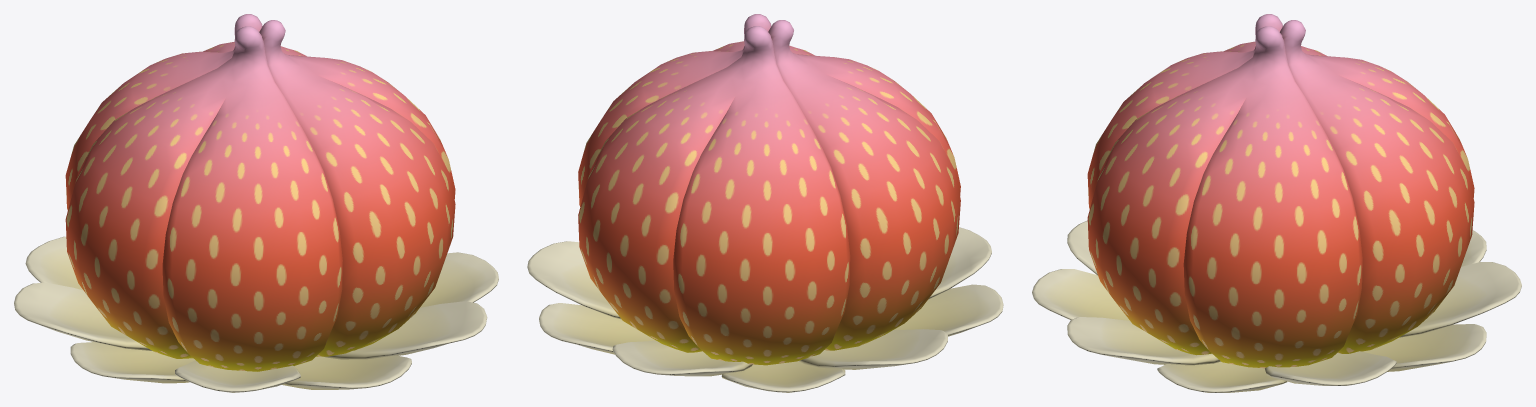
File: fruitCactus.fbx
The picture shows the model from 3 angles, left to right: view 1: azimuth 30°, elevation 25°; view 2: azimuth 150°, elevation 25°; view 3: azimuth 270°, elevation 25°; orthographic projection.
Visible parts, largest first — view 1: fruitCactus; view 2: fruitCactus; view 3: fruitCactus.
Part boxes in pixels (x1,y1,x2,y2): fruitCactus: (14, 14, 498, 392); fruitCactus: (527, 14, 1003, 392); fruitCactus: (1032, 14, 1521, 392).
Bounding box in the file's own units: 18.57 × 14.36 × 19.32.
1 material, 1 textured.
